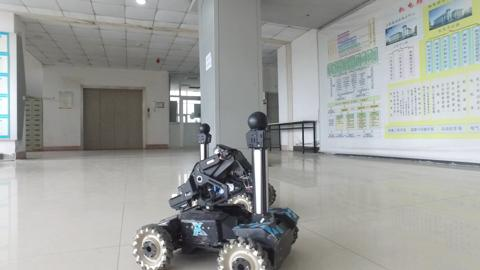chariot: (131, 104, 301, 270)
